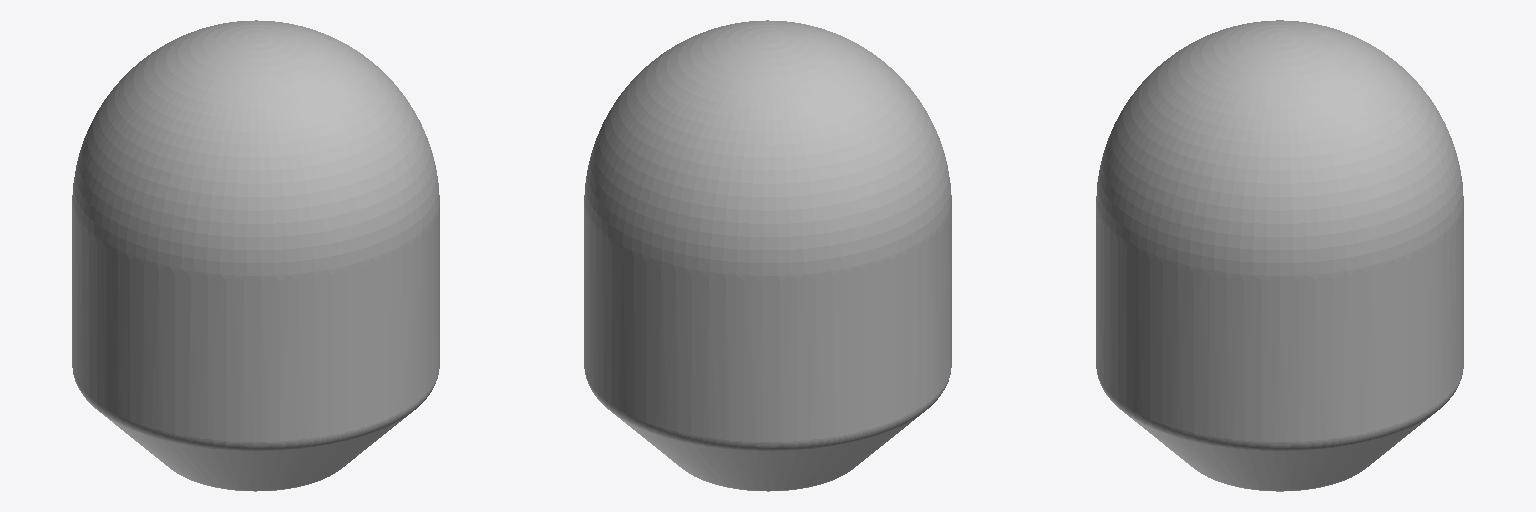
The robot description file, URDF, robot "root":
<robot name="root">
  <link name="link_rounded_bobble_convex_piece_0">
    <inertial>
      <origin xyz="0 0 0" rpy="0 0 0"/>
      <mass value="2.36E-01"/>
      <inertia ixx="1.86E-04" ixy="2.48E-15" ixz="2.41E-10" iyy="1.86E-04" iyz="7.65E-15" izz="1.41E-04"/>
    </inertial>
    <visual>
      <origin xyz="0 0 0" rpy="0 0 0"/>
      <geometry>
        <mesh filename="rounded_bobble_convex_piece_0.obj" scale="1.0000E+00 1.0000E+00 1.0000E+00"/>
      </geometry>
      <material name="">
        <color rgba="7.50E-01 7.50E-01 7.50E-01 1"/>
      </material>
    </visual>
    <collision>
      <origin xyz="0 0 0" rpy="0 0 0"/>
      <geometry>
        <mesh filename="rounded_bobble_convex_piece_0.obj" scale="1.0000E+00 1.0000E+00 1.0000E+00"/>
      </geometry>
    </collision>
  </link>
</robot>

--- Facts derived from the render (not from the file) ---
3 views of the same robot in one strip: view 1: azimuth 30°, elevation 25°; view 2: azimuth 150°, elevation 25°; view 3: azimuth 270°, elevation 25° (orthographic).
Model root with 1 links and 0 joints (none), rooted at link_rounded_bobble_convex_piece_0, posed every joint at zero.
Links seen in each view (by area): view 1: link_rounded_bobble_convex_piece_0; view 2: link_rounded_bobble_convex_piece_0; view 3: link_rounded_bobble_convex_piece_0.
Boxes of the visible links, <box> form: link_rounded_bobble_convex_piece_0: <box>72,20,439,491</box>; link_rounded_bobble_convex_piece_0: <box>584,20,951,491</box>; link_rounded_bobble_convex_piece_0: <box>1096,20,1463,491</box>.
Size in the robot's own frame: 0.0737 by 0.0737 by 0.0921 metres.
1 mesh visuals loaded from 1 distinct referenced files (1 OBJ).
